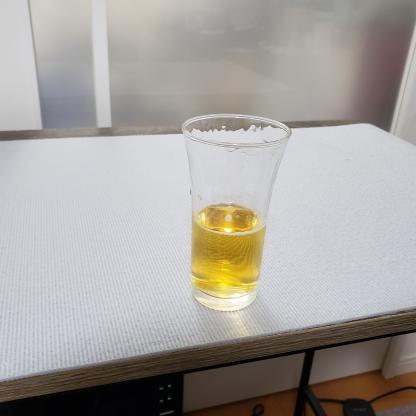glass: (171, 103, 310, 326)
